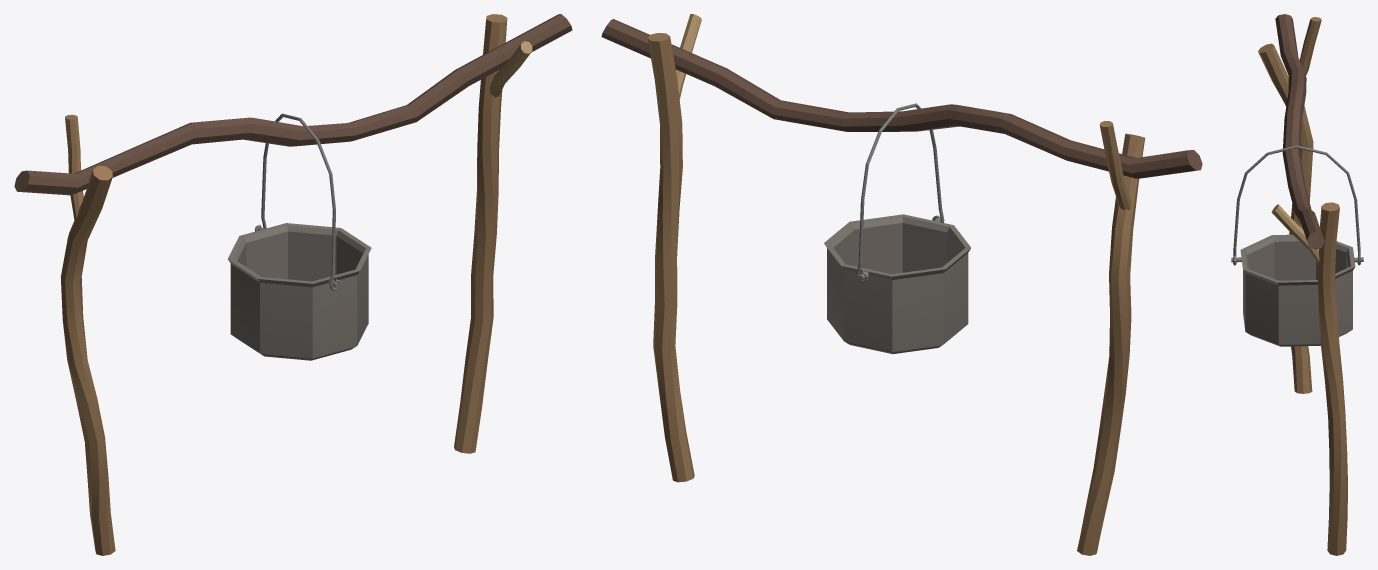
File: atoll_cookingPot.fbx
The picture shows the model from 3 angles, left to right: view 1: azimuth 30°, elevation 25°; view 2: azimuth 150°, elevation 25°; view 3: azimuth 270°, elevation 25°; orthographic projection. The views are drawn at different scales.
Visible parts, largest first — view 1: pCylinder26, FireBar, FirePost1, FirePost2, pTorus3, FirePostBranch1, FirePostBranch2; view 2: pCylinder26, FireBar, FirePost1, FirePost2, pTorus3, FirePostBranch1; view 3: pCylinder26, FirePost1, FireBar, FirePost2, pTorus3, FirePostBranch1, FirePostBranch2.
Boxes of the visible parts, <box> form: pCylinder26: <box>228,223,371,360</box>; FireBar: <box>14,14,572,195</box>; FirePost1: <box>454,14,507,453</box>; FirePost2: <box>60,165,115,555</box>; pTorus3: <box>254,113,341,290</box>; FirePostBranch1: <box>65,114,83,221</box>; FirePostBranch2: <box>489,41,532,97</box>; pCylinder26: <box>824,214,970,354</box>; FireBar: <box>601,19,1202,178</box>; FirePost1: <box>647,33,694,482</box>; FirePost2: <box>1077,133,1144,555</box>; pTorus3: <box>856,103,944,282</box>; FirePostBranch1: <box>1099,121,1131,209</box>; pCylinder26: <box>1240,234,1355,346</box>; FirePost1: <box>1317,202,1347,555</box>; FireBar: <box>1275,14,1324,249</box>; FirePost2: <box>1258,43,1313,393</box>; pTorus3: <box>1233,145,1360,265</box>; FirePostBranch1: <box>1299,17,1321,75</box>; FirePostBranch2: <box>1271,204,1319,263</box>.
Bounding box in the file's own units: 235 × 174 × 56.78.
